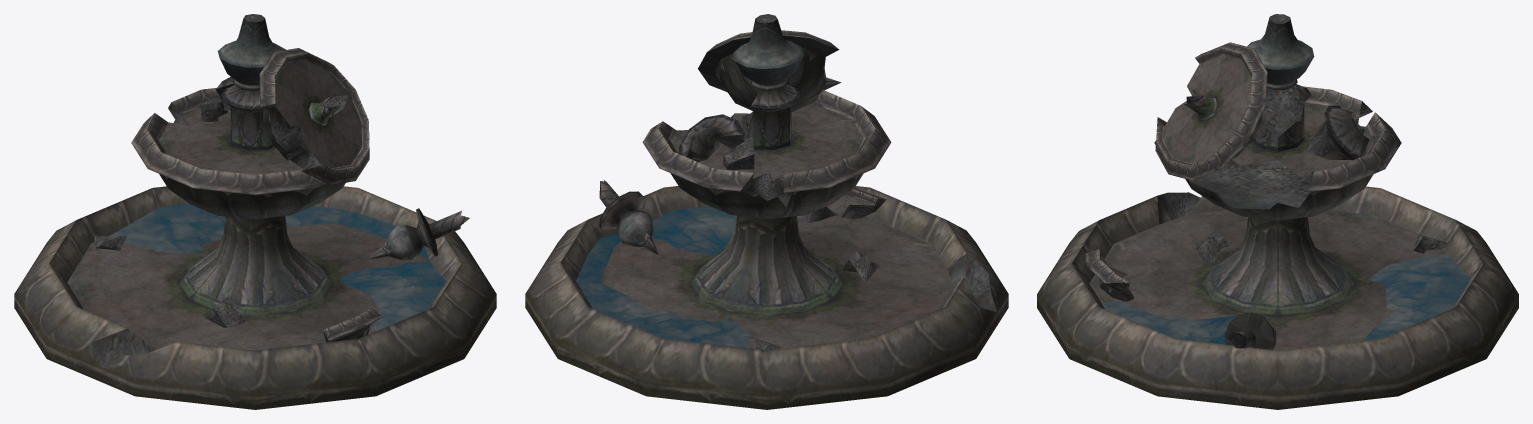
3 views of the same model, side by side, from view 1: azimuth 30°, elevation 25°; view 2: azimuth 150°, elevation 25°; view 3: azimuth 270°, elevation 25° (orthographic).
Visible parts, largest first — view 1: World_Expansion03_doodads_gilneas_fountains_gilneas_fountainbro; view 2: World_Expansion03_doodads_gilneas_fountains_gilneas_fountainbro; view 3: World_Expansion03_doodads_gilneas_fountains_gilneas_fountainbro.
Part boxes in pixels (x1,y1,x2,y2): World_Expansion03_doodads_gilneas_fountains_gilneas_fountainbro: [14, 14, 496, 409]; World_Expansion03_doodads_gilneas_fountains_gilneas_fountainbro: [525, 14, 1008, 409]; World_Expansion03_doodads_gilneas_fountains_gilneas_fountainbro: [1037, 14, 1518, 409].
Bounding box in the file's own units: 1.51 × 1 × 1.51.
2 materials, 2 textured.
